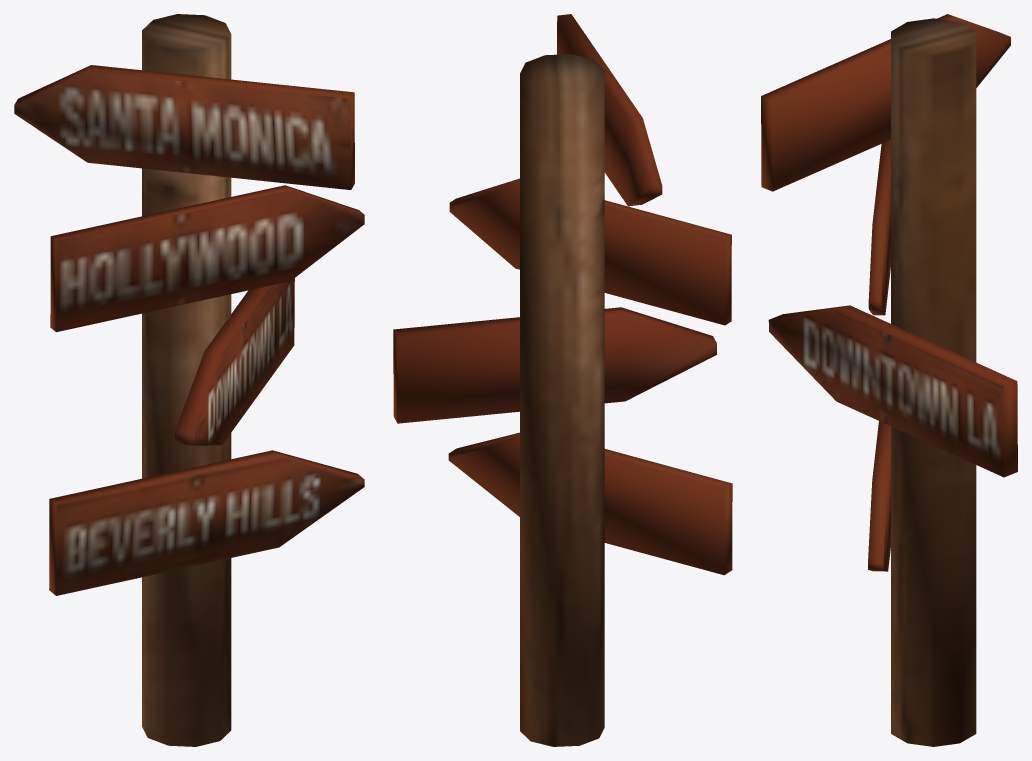
File: yön tabelası.fbx
The picture shows the model from 3 angles, left to right: view 1: azimuth 30°, elevation 25°; view 2: azimuth 150°, elevation 25°; view 3: azimuth 270°, elevation 25°; orthographic projection. The views are drawn at different scales.
Visible parts, largest first — view 1: İkosfer; view 2: İkosfer; view 3: İkosfer.
Boxes of the visible parts, <box> form: İkosfer: <box>14,14,364,746</box>; İkosfer: <box>393,14,732,746</box>; İkosfer: <box>761,14,1017,746</box>.
Size of the model in its own units: 149 by 329 by 111.
Materials: 1 (1 with a texture image).
